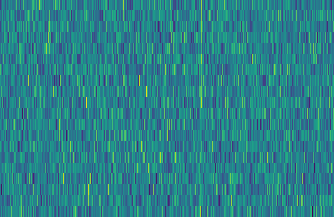signal: (196, 0, 206, 217)
